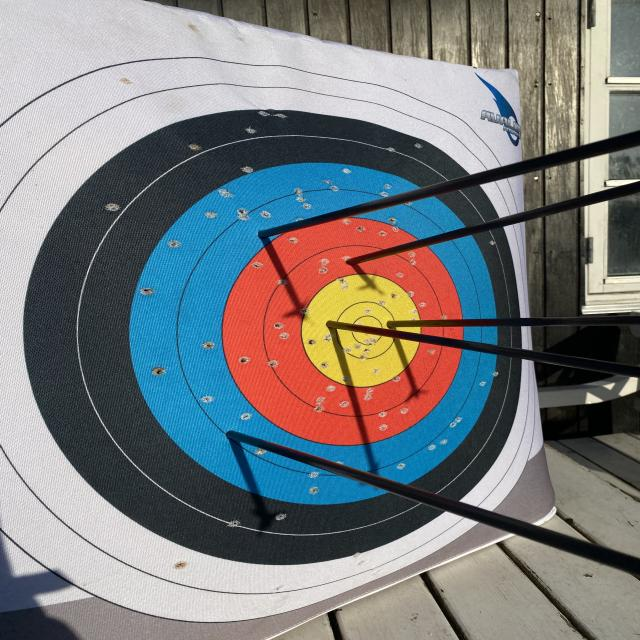Arrow_Blue: (210, 411, 266, 456), (251, 215, 282, 250)
Arrow_Red: (338, 245, 370, 273)
Arrow_Yellow: (312, 311, 365, 345), (376, 307, 405, 339)
